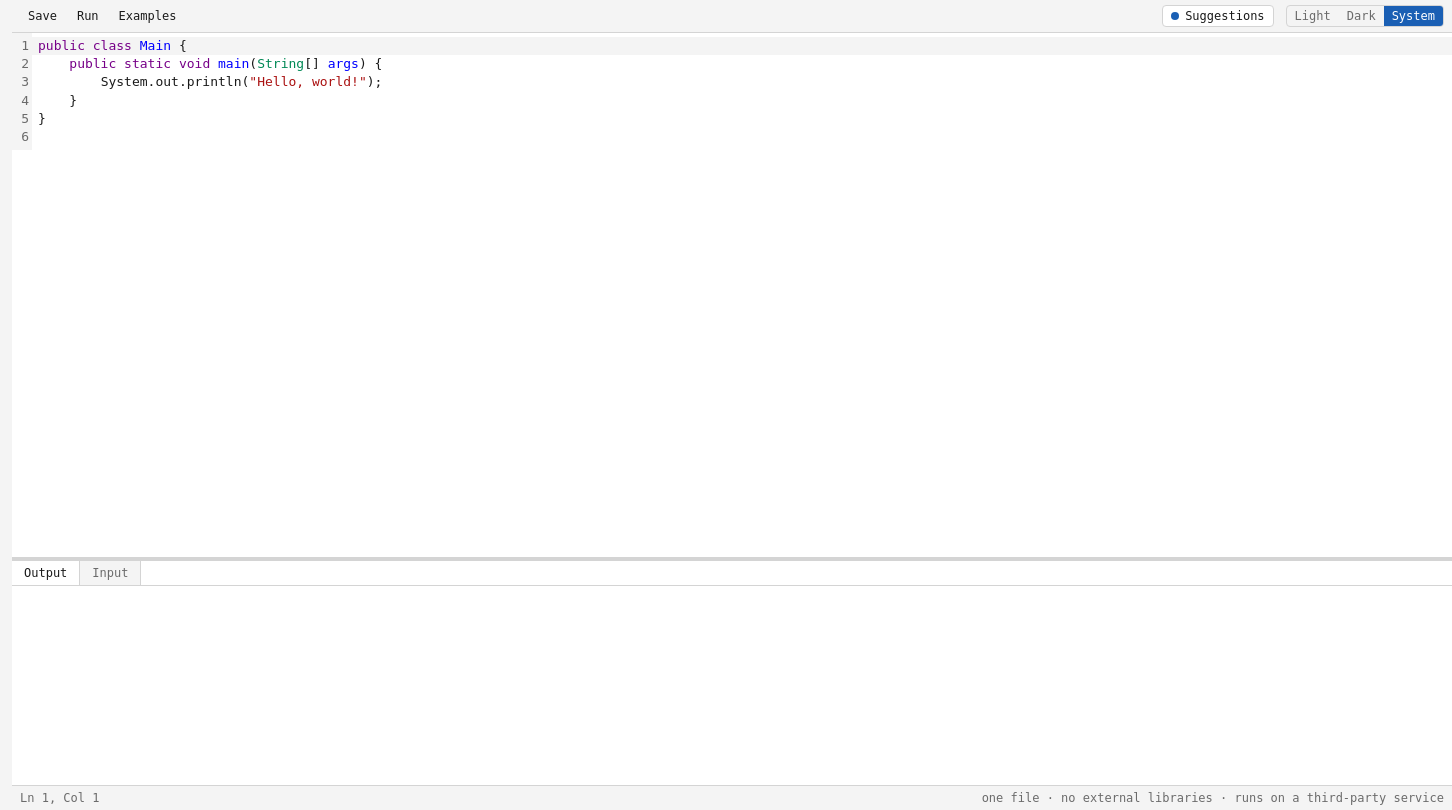
Test case: compile errors render in the error stream
The width and height of the screenshot is (1452, 810).
Click the button "Run": (88, 16) [69,4,107,28]
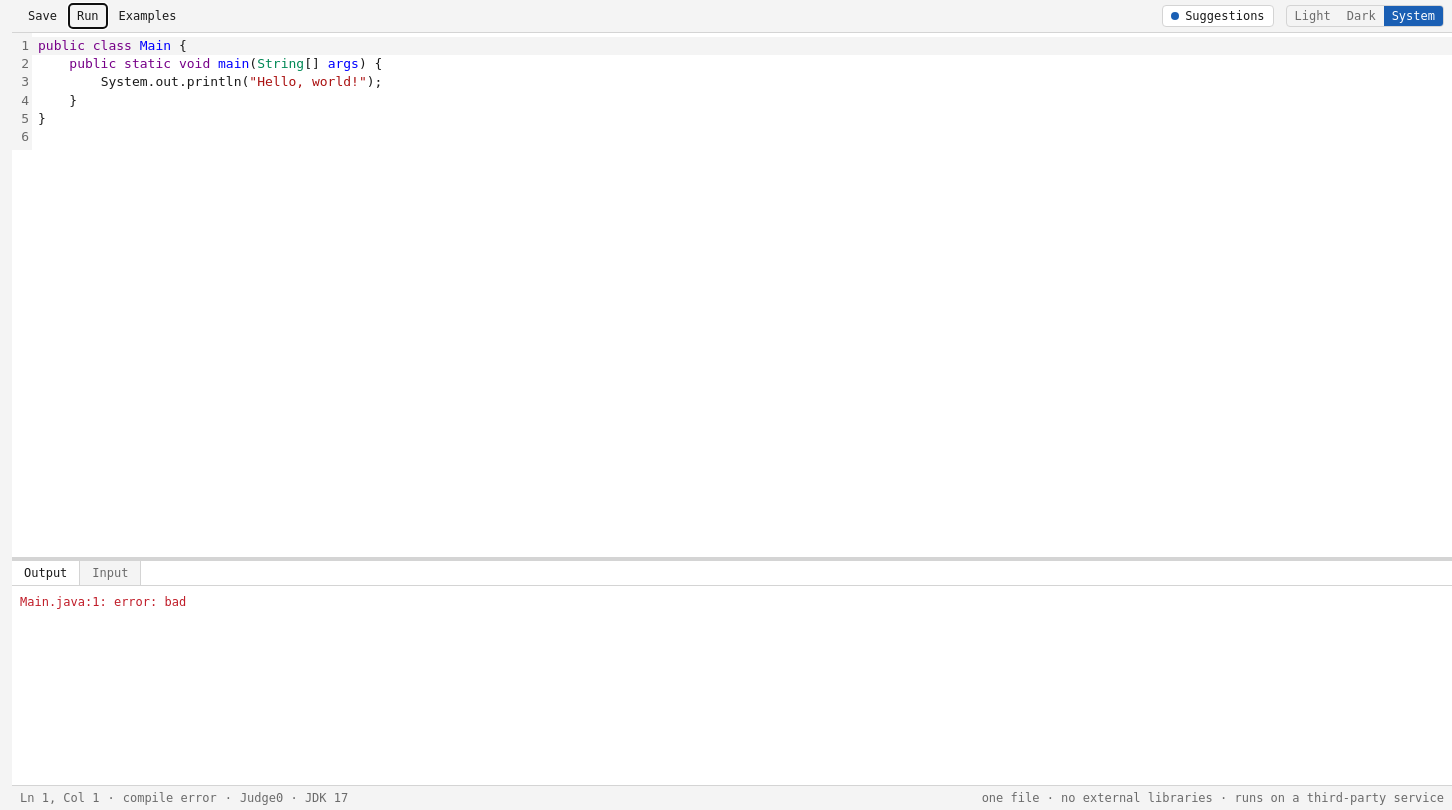
Check: the text with test id "stderr" reads "Main.java:1: error: bad", box [20,595,186,609]
